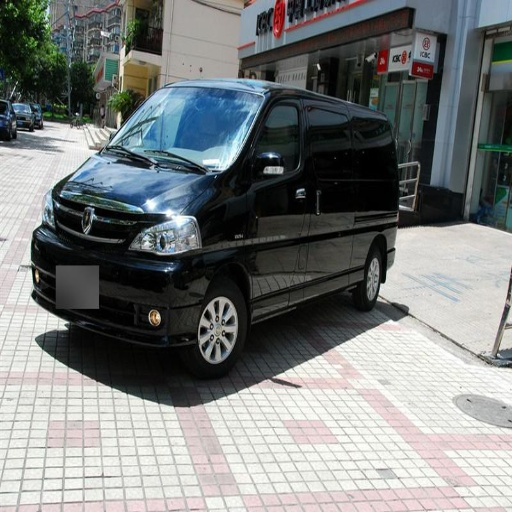front_bumper: (31, 198, 210, 346)
front_glass: (98, 88, 265, 170)
front_left_door: (249, 96, 311, 306)
trunk: (323, 213, 388, 258)
